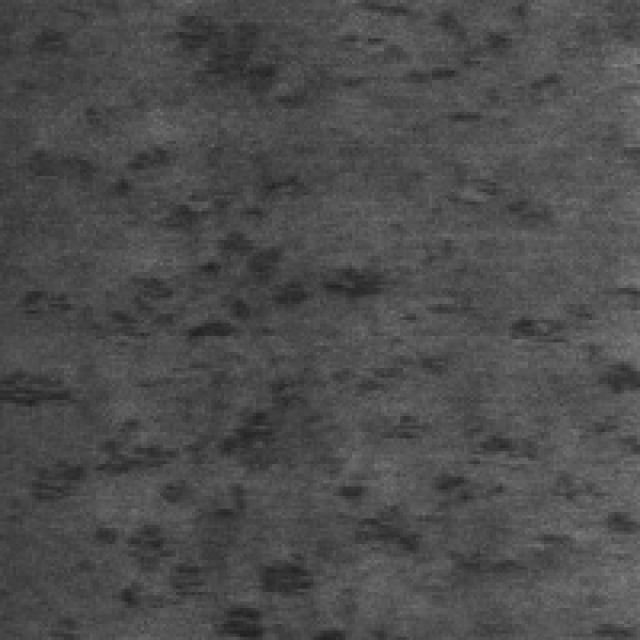rolled-in_scale: (6, 192, 397, 634), (214, 307, 637, 605), (330, 0, 579, 125), (163, 0, 352, 112)
